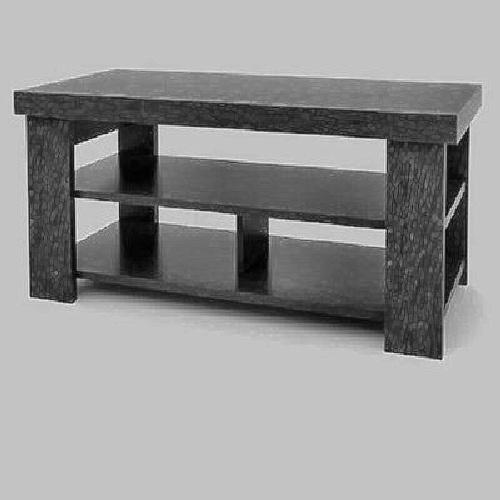table: (33, 54, 479, 363)
